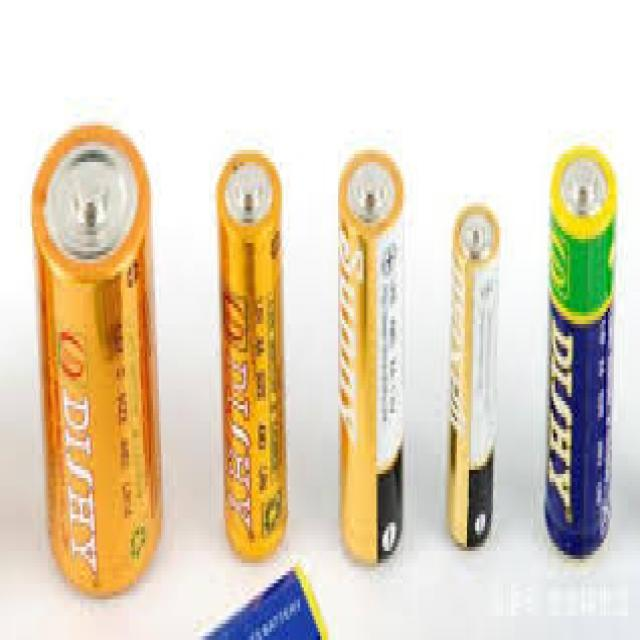non-organic waste: (29, 125, 165, 596), (544, 142, 617, 563), (337, 144, 405, 564), (217, 153, 286, 564), (447, 204, 500, 547)
